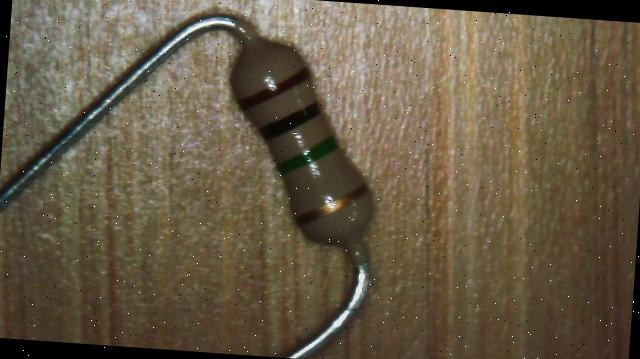black: (257, 97, 322, 142)
brown: (237, 62, 310, 112)
gold: (296, 180, 366, 228)
green: (276, 130, 338, 176)
resistor: (198, 7, 417, 277)
